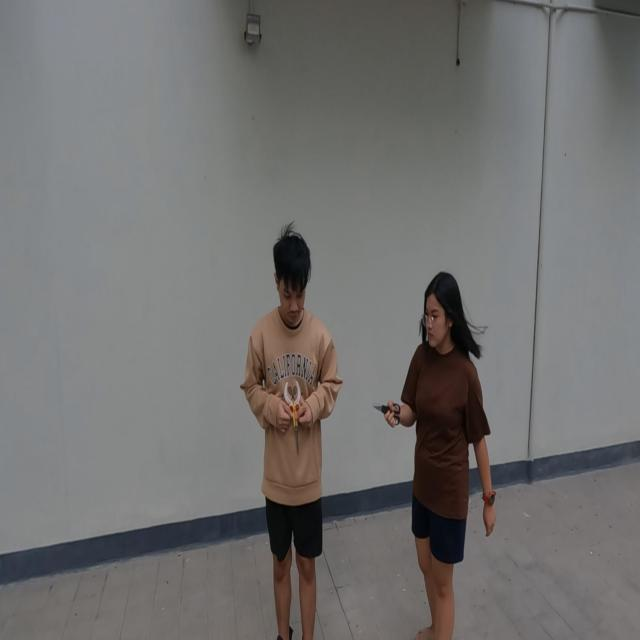scissor: (288, 401, 302, 456), (372, 401, 401, 426)
